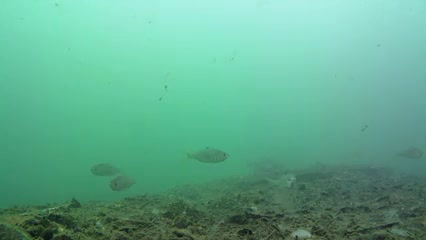smallfish: (186, 144, 234, 165), (108, 174, 140, 191)
